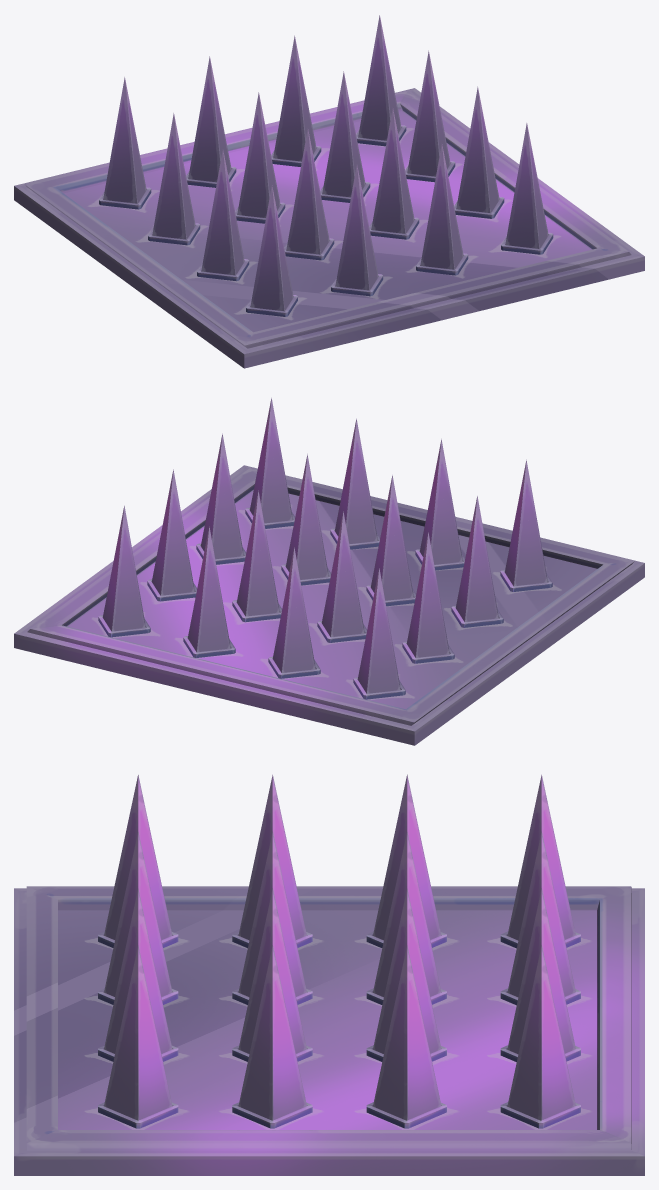
File: thorn (2).fbx
3 renders of one model, top to bottom at view 1: azimuth 30°, elevation 25°; view 2: azimuth 150°, elevation 25°; view 3: azimuth 270°, elevation 25°, orthographic. The views are drawn at different scales.
Parts seen in each view (by area): view 1: Cube.001, Cone; view 2: Cube.001, Cone; view 3: Cube.001, Cone.
Boxes of the visible parts, x1,y1,x2,y2 form: Cube.001: (14, 88, 644, 368); Cone: (103, 15, 548, 311); Cube.001: (14, 465, 644, 745); Cone: (102, 398, 547, 693); Cube.001: (14, 886, 644, 1175); Cone: (104, 774, 575, 1120).
Bounding box in the file's own units: 175 × 59.42 × 174.
